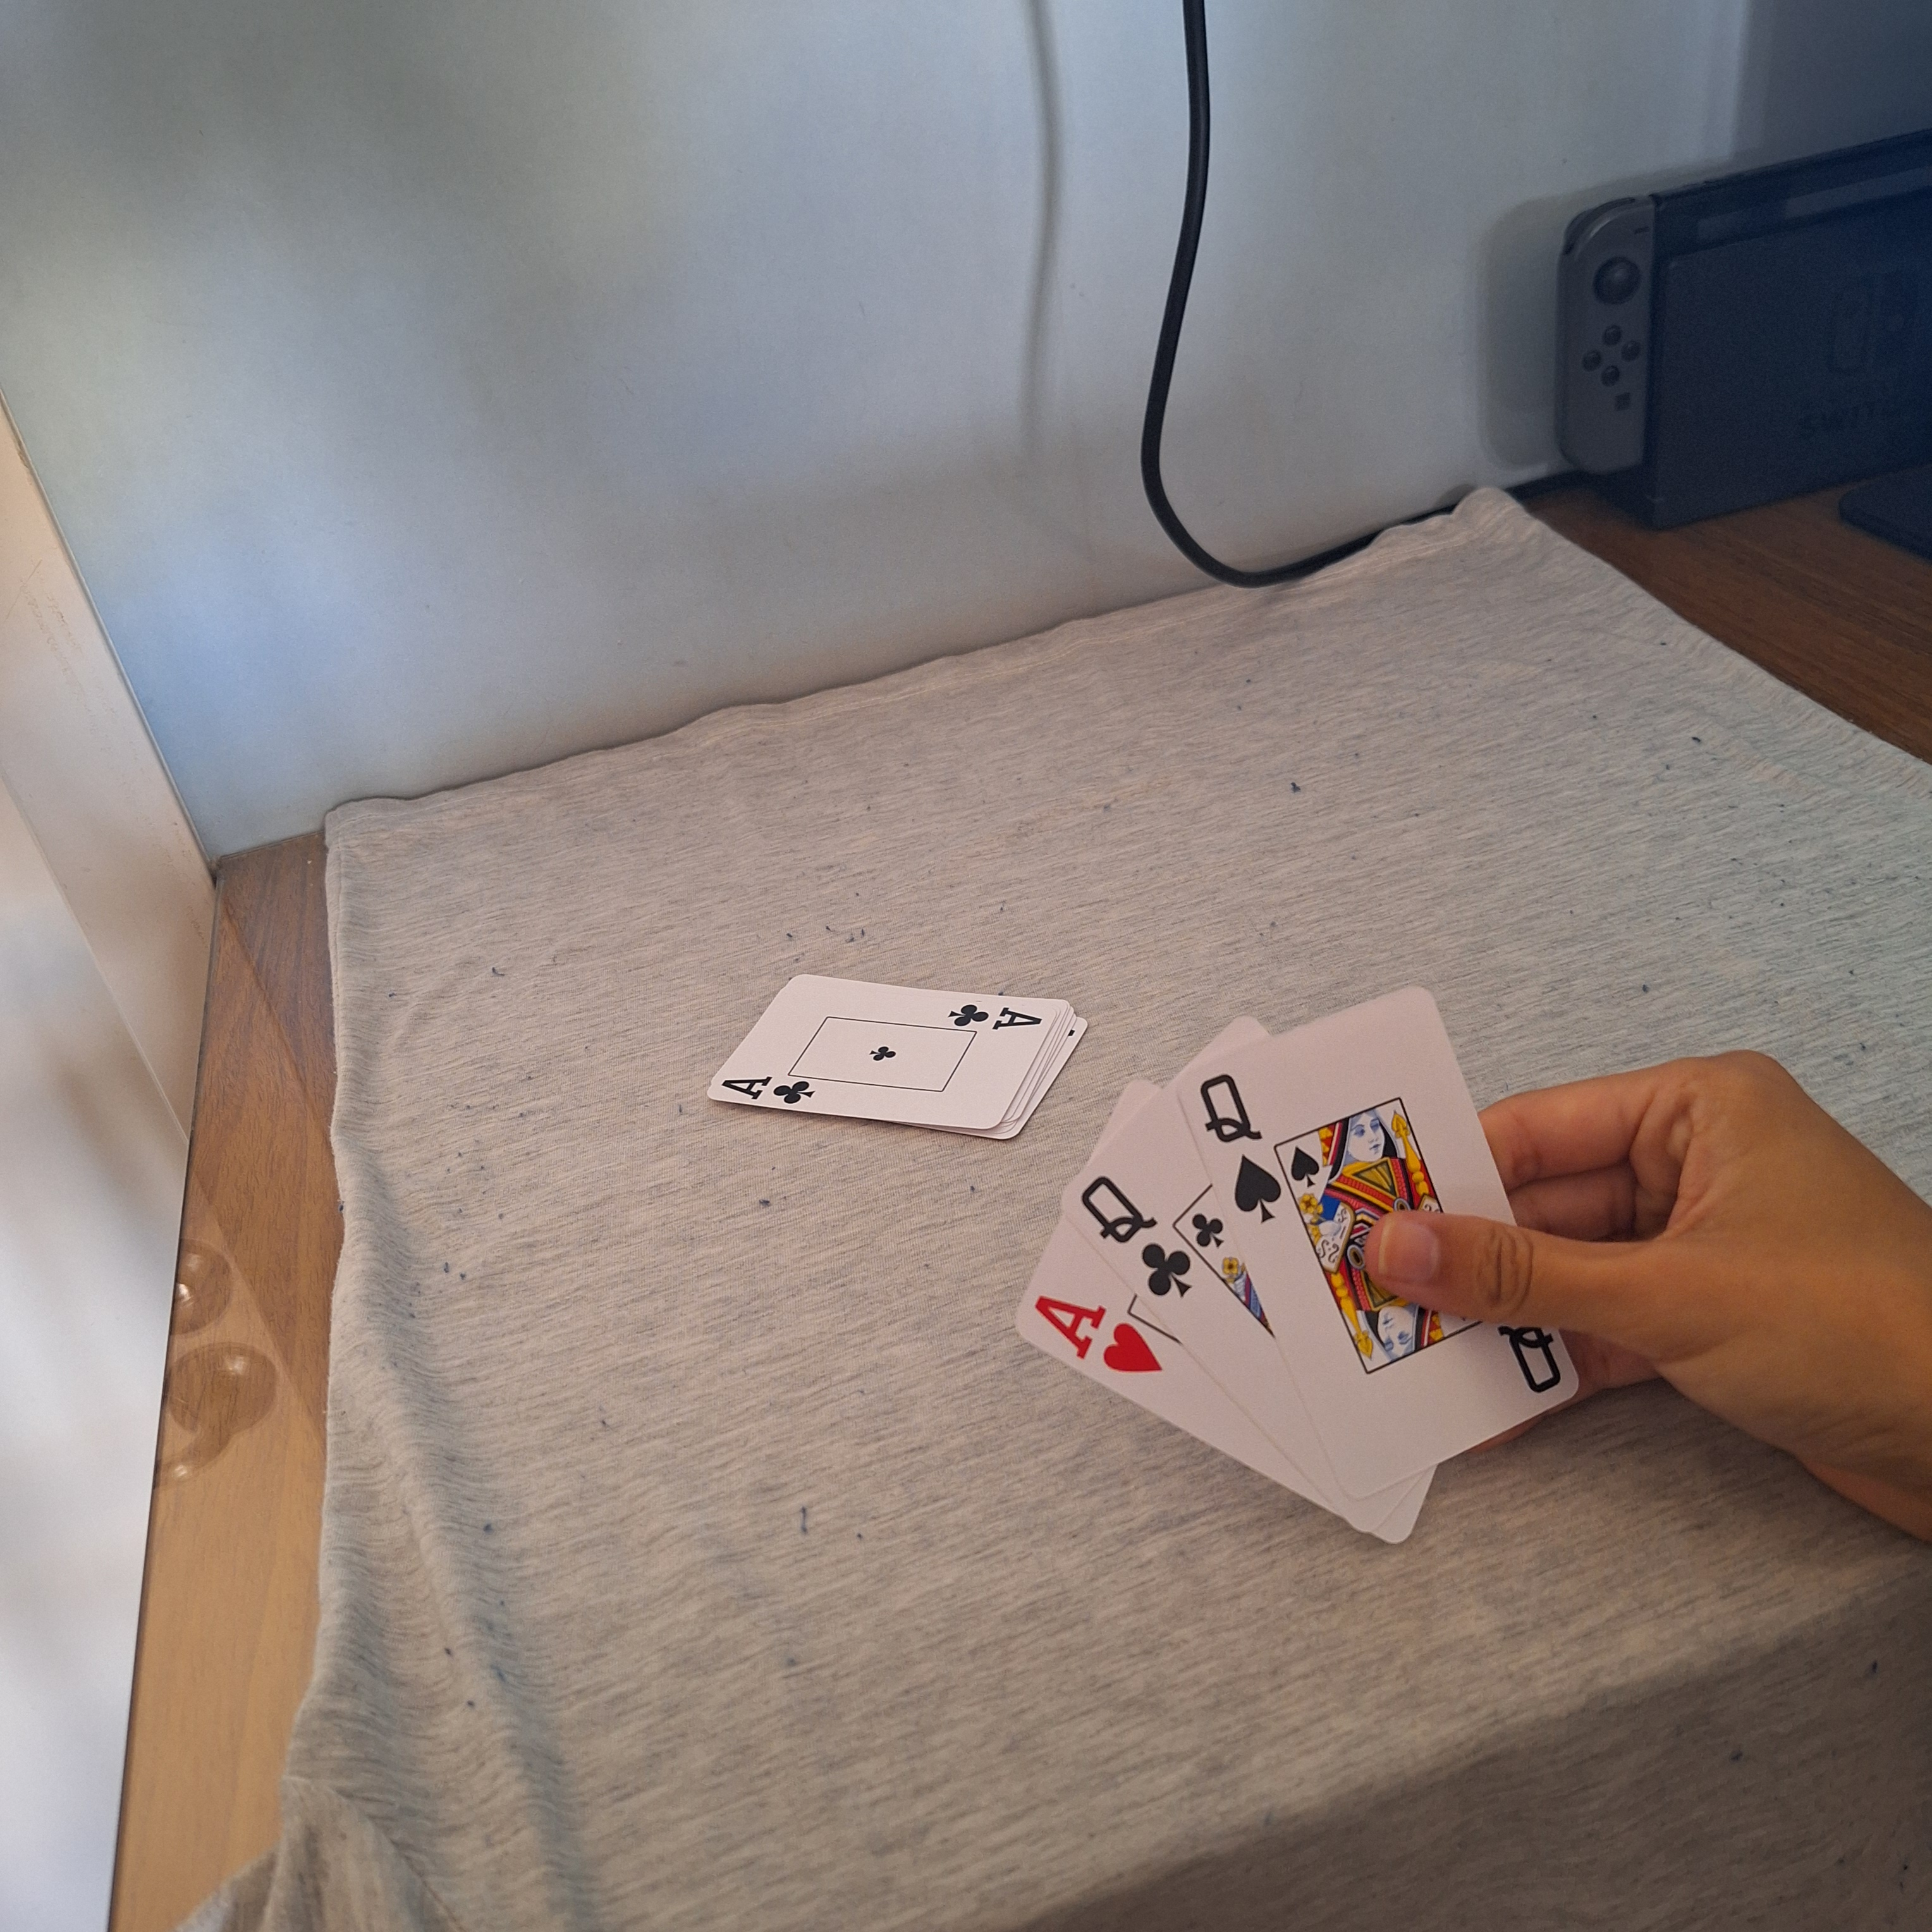AC: (1031, 1293, 1164, 1378)
AP: (717, 1069, 821, 1111), (945, 1000, 1047, 1037)
QE: (1196, 1072, 1286, 1224)
QP: (1077, 1175, 1198, 1304)
